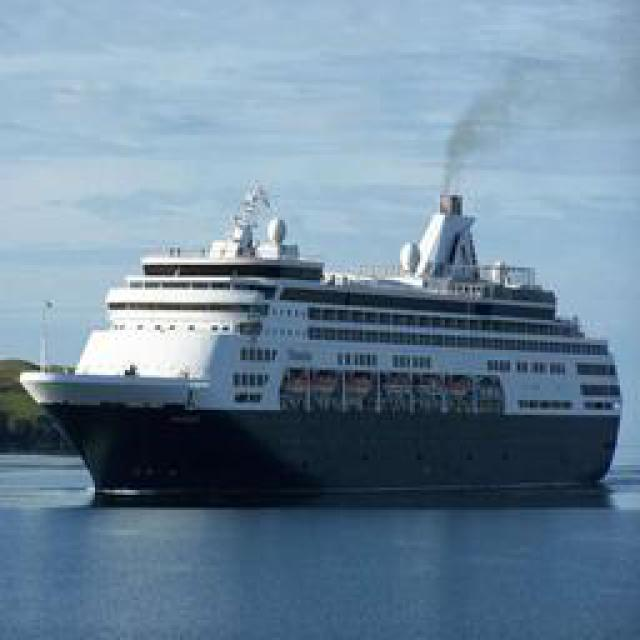Ship: (15, 172, 628, 492)
